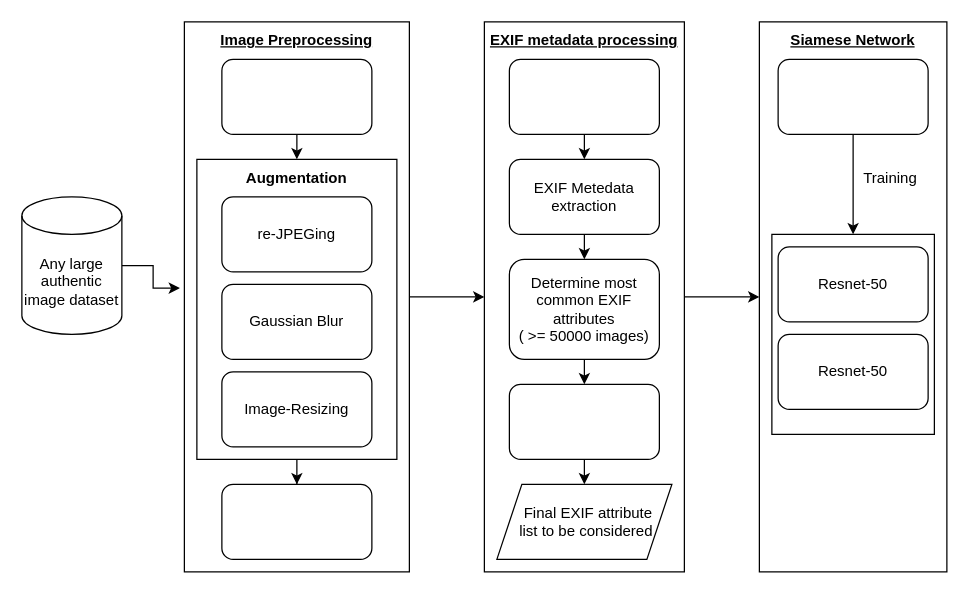
Image size: 969x594. Some labels were removed from this diagram. The centre of each missing label's shape, as x and y in pixels:
"Acquisition of image patches and final EXIF attribute list" belongs at point 852,96.
"Discard attribute values occuring <= 100 times" belongs at point 583,421.
"Patch Extraction" belongs at point 296,521.
"Preprocessed Image Acquisition" belongs at point 583,96.
"Random Sampling" belongs at point 296,96.
